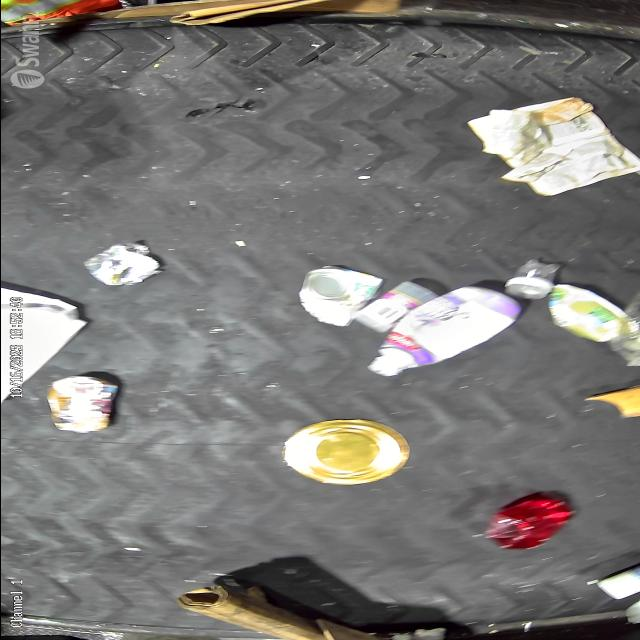can: (281, 419, 409, 485), (297, 264, 383, 328), (47, 376, 117, 434)
